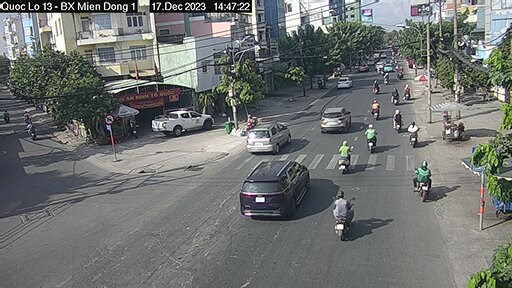car: (240, 155, 308, 220), (149, 107, 221, 137), (247, 121, 299, 151), (317, 107, 352, 135)
motorbike: (331, 187, 361, 241), (413, 161, 435, 198), (333, 142, 355, 170), (360, 124, 378, 157), (409, 121, 421, 146), (390, 112, 402, 132)
